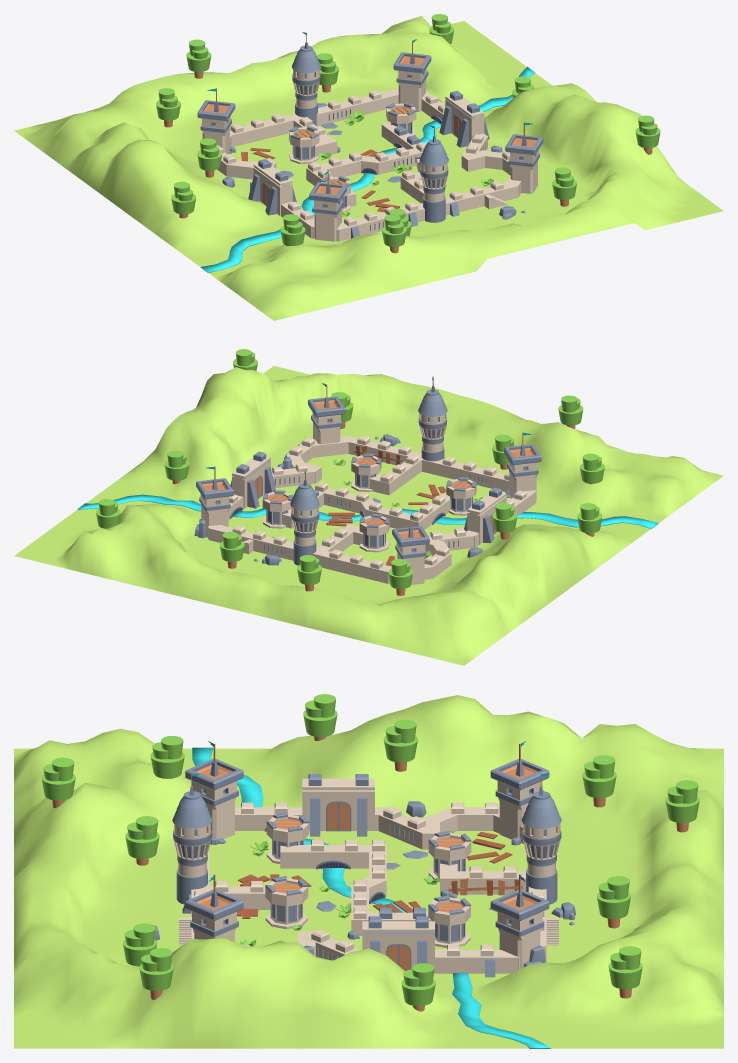
File: map3.fbx
The picture shows the model from 3 angles, top to bottom: view 1: azimuth 30°, elevation 25°; view 2: azimuth 150°, elevation 25°; view 3: azimuth 270°, elevation 25°; orthographic projection. The views are drawn at different scales.
Visible parts, largest first — view 1: Plane.005, Cube.007, Cylinder.005, Sprite__3_, Plane.006, Plane.007, Cube__3_.002, Cube__4__2, Cube__4__1, Cube.010, Cube.015, Plane.016 (+12 smaller); view 2: Plane.005, Cube.007, Cylinder.005, Sprite__3_, Plane.006, Plane.007, Cube__4__2, Cube__4__1, Cube__3_.002, Cube.010, Cube.014, Cube.015 (+16 smaller); view 3: Plane.005, Cube.007, Cylinder.005, Plane.007, Sprite__3_, Plane.006, Cube.013, Cube.015, Cube.005, Cube__18__1, Cube.010, Cube.014 (+18 smaller).
Boxes of the visible parts, x1,y1,x2,y2 form: Plane.005: [14, 16, 723, 320]; Cube.007: [197, 39, 543, 241]; Cylinder.005: [292, 32, 448, 222]; Sprite__3_: [200, 67, 535, 272]; Plane.006: [439, 90, 489, 147]; Plane.007: [248, 159, 296, 215]; Cube__3_.002: [316, 88, 398, 126]; Cube__4__2: [401, 181, 518, 222]; Cube__4__1: [230, 114, 304, 146]; Cube.010: [289, 125, 319, 163]; Cube.015: [386, 102, 416, 135]; Plane.016: [186, 39, 211, 78]; Plane.005: [14, 366, 723, 665]; Cube.007: [196, 383, 541, 584]; Cylinder.005: [290, 376, 447, 565]; Sprite__3_: [77, 494, 658, 528]; Plane.006: [230, 451, 275, 508]; Plane.007: [464, 487, 506, 544]; Cube__4__2: [343, 436, 459, 479]; Cube__4__1: [312, 548, 388, 583]; Cube__3_.002: [209, 525, 293, 560]; Cube.010: [359, 514, 389, 552]; Cube.014: [446, 477, 476, 515]; Cube.015: [262, 490, 292, 528]; Plane.005: [14, 695, 723, 1048]; Cube.007: [185, 741, 549, 968]; Cylinder.005: [172, 773, 561, 904]; Plane.007: [302, 774, 374, 836]; Sprite__3_: [192, 747, 550, 1048]; Plane.006: [362, 916, 434, 973]; Cube.013: [265, 876, 308, 929]; Cube.015: [428, 895, 470, 947]; Cube.005: [280, 845, 368, 868]; Cube__18__1: [435, 950, 518, 973]; Cube.010: [428, 830, 471, 882]; Cube.014: [266, 812, 309, 863].
Size of the model in its own units: 40024 by 8533 by 40000.
